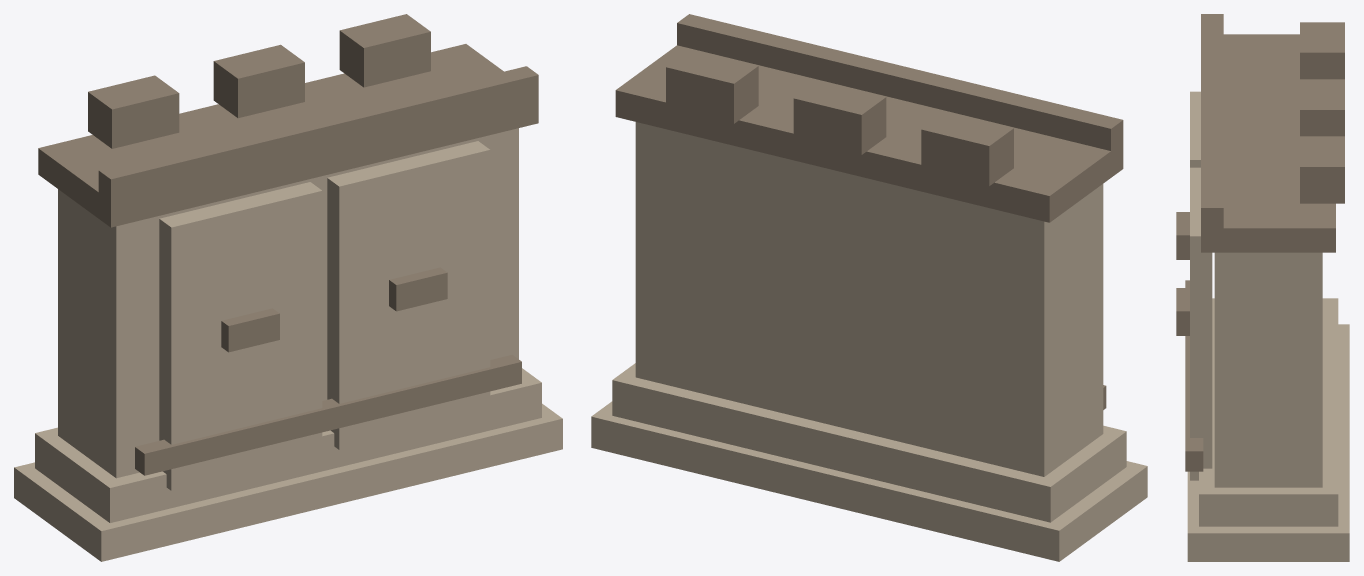
Rendered from fortress_tier_small.glb.
3 renders of one model, left to right at view 1: azimuth 30°, elevation 25°; view 2: azimuth 150°, elevation 25°; view 3: azimuth 270°, elevation 25°, orthographic. The views are drawn at different scales.
Visible parts, largest first — view 1: FortressTier, chunk_5, chunk_4, accent_FortressTier, accent_chunk_1, accent_chunk_2, accent_chunk_3, accent_chunk_4, accent_chunk_5; view 2: FortressTier, accent_FortressTier, accent_chunk_1, accent_chunk_2; view 3: FortressTier, accent_FortressTier, accent_chunk_1, chunk_5, accent_chunk_2, accent_chunk_3, chunk_4, accent_chunk_4, accent_chunk_5.
Part boxes in pixels (x1,y1,x2,y2): FortressTier: [14, 128, 562, 561]; chunk_5: [327, 141, 490, 449]; chunk_4: [159, 182, 322, 490]; accent_FortressTier: [38, 44, 538, 227]; accent_chunk_1: [88, 14, 430, 148]; accent_chunk_2: [98, 66, 538, 201]; accent_chunk_3: [135, 354, 521, 475]; accent_chunk_4: [221, 308, 279, 352]; accent_chunk_5: [389, 267, 447, 311]; FortressTier: [591, 122, 1147, 561]; accent_FortressTier: [615, 45, 1123, 222]; accent_chunk_1: [666, 49, 1013, 186]; accent_chunk_2: [677, 14, 1123, 150]; FortressTier: [1187, 252, 1349, 561]; accent_FortressTier: [1201, 34, 1335, 252]; accent_chunk_1: [1300, 22, 1344, 203]; chunk_5: [1190, 167, 1212, 480]; accent_chunk_2: [1201, 14, 1223, 228]; accent_chunk_3: [1185, 280, 1203, 471]; chunk_4: [1190, 91, 1200, 167]; accent_chunk_4: [1176, 212, 1189, 259]; accent_chunk_5: [1176, 288, 1189, 335].
Size of the model in its own units: 1.1 by 0.89 by 0.385.
